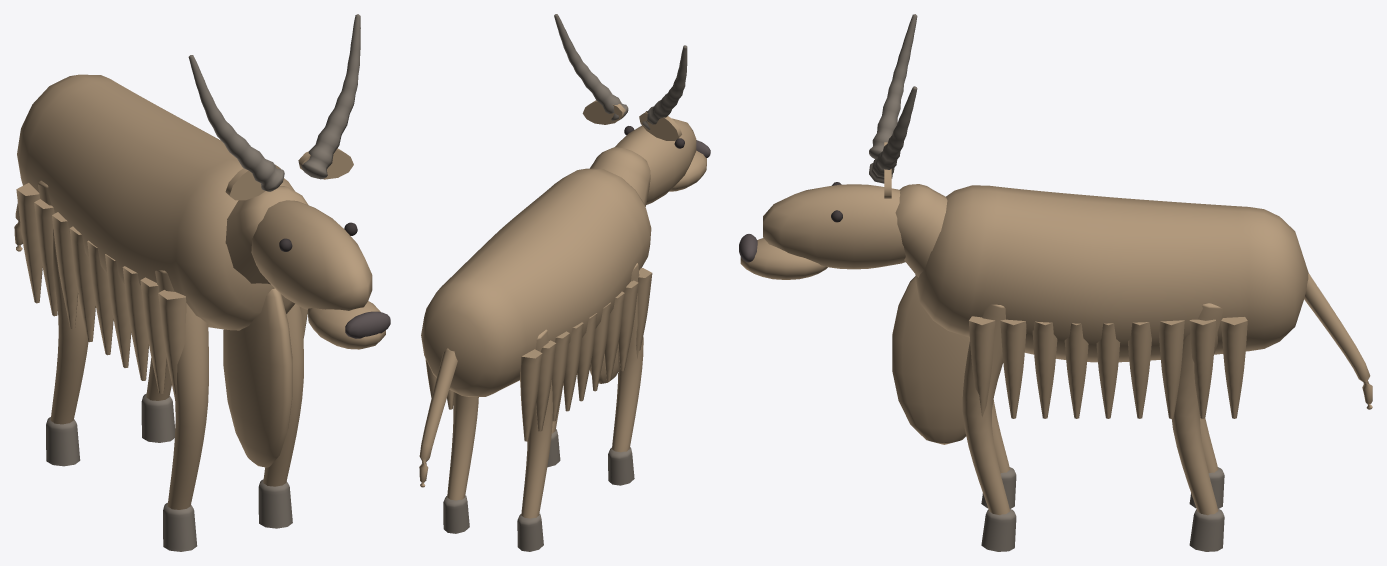
Rendered from polar-tundra-and-alpine-fauna-himalayan-tahr-40e77245__6060.glb.
3 views of the same model, side by side, from view 1: azimuth 30°, elevation 25°; view 2: azimuth 150°, elevation 25°; view 3: azimuth 270°, elevation 25° (orthographic). The views are drawn at different scales.
Parts seen in each view (by area): view 1: himalayan-tahr; view 2: himalayan-tahr; view 3: himalayan-tahr.
Boxes of the visible parts, x1,y1,x2,y2 form: himalayan-tahr: (14,14,390,551); himalayan-tahr: (419,14,710,551); himalayan-tahr: (739,14,1372,551).
Size of the model in its own units: 0.5196 by 1.55 by 1.87.
